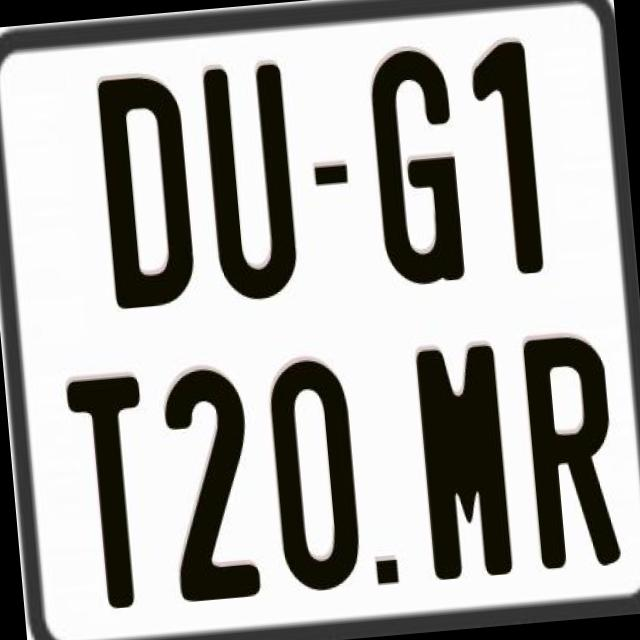0: (265, 353, 369, 598)
1: (467, 41, 542, 282)
2: (162, 364, 264, 602)
D: (92, 70, 196, 310)
G: (365, 44, 464, 287)
M: (412, 340, 516, 580)
R: (518, 330, 622, 576)
T: (62, 372, 154, 612)
U: (198, 59, 302, 298)
